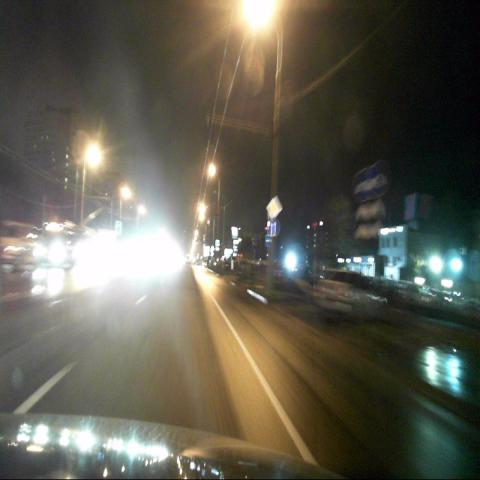4_2_3: (370, 161, 390, 195)
